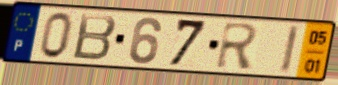0: (38, 10, 75, 61)
6: (127, 16, 163, 66)
7: (166, 17, 209, 68)
B: (70, 12, 119, 63)
I: (277, 23, 302, 76)
R: (214, 20, 261, 71)
